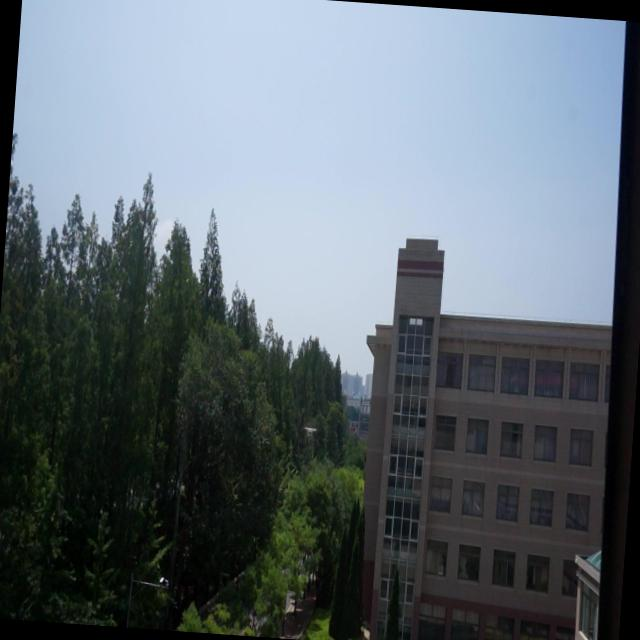drone: (300, 422, 319, 438)
